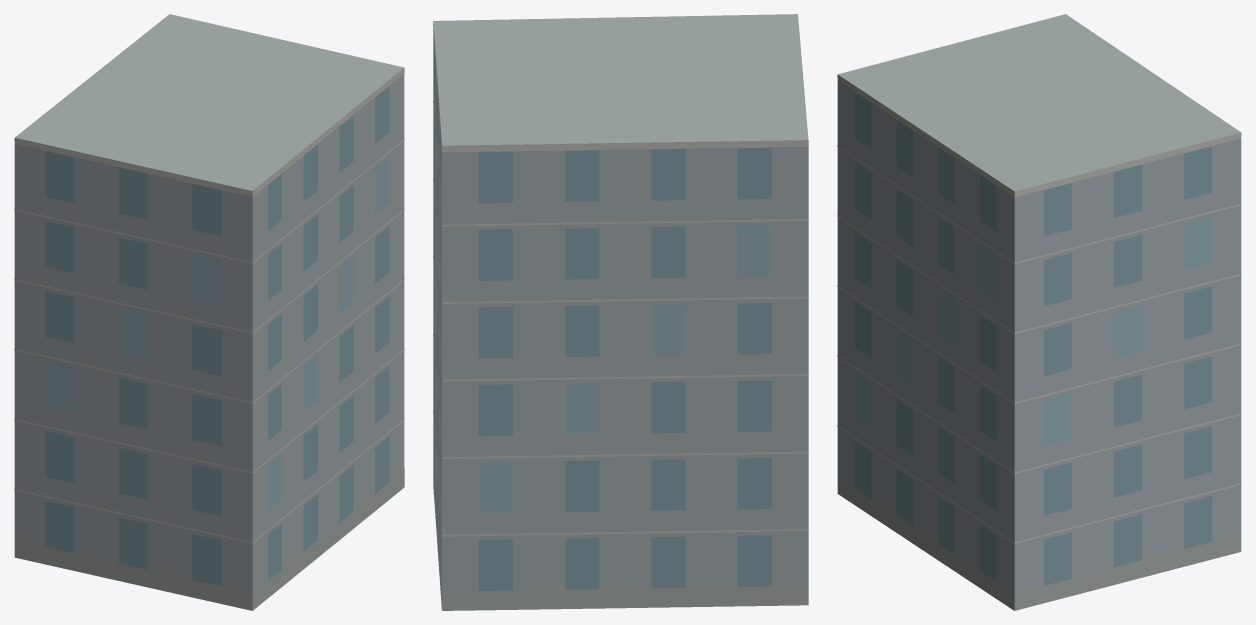
Rendered from survey-upis-32731768.glb.
3 views of the same model, side by side, from view 1: azimuth 30°, elevation 25°; view 2: azimuth 150°, elevation 25°; view 3: azimuth 270°, elevation 25° (orthographic). The views are drawn at different scales.
Visible parts, largest first — view 1: survey-upis-32731768.tmp; view 2: survey-upis-32731768.tmp; view 3: survey-upis-32731768.tmp.
Part boxes in pixels (bbox=[...]): survey-upis-32731768.tmp: bbox=[14, 14, 404, 610]; survey-upis-32731768.tmp: bbox=[433, 14, 808, 610]; survey-upis-32731768.tmp: bbox=[837, 14, 1241, 610].
Size of the model in its own units: 15.45 by 17 by 14.85.
